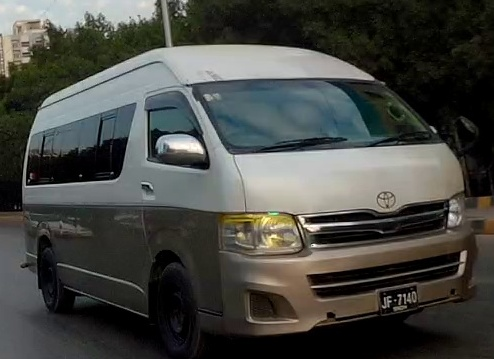van: (20, 44, 478, 359)
